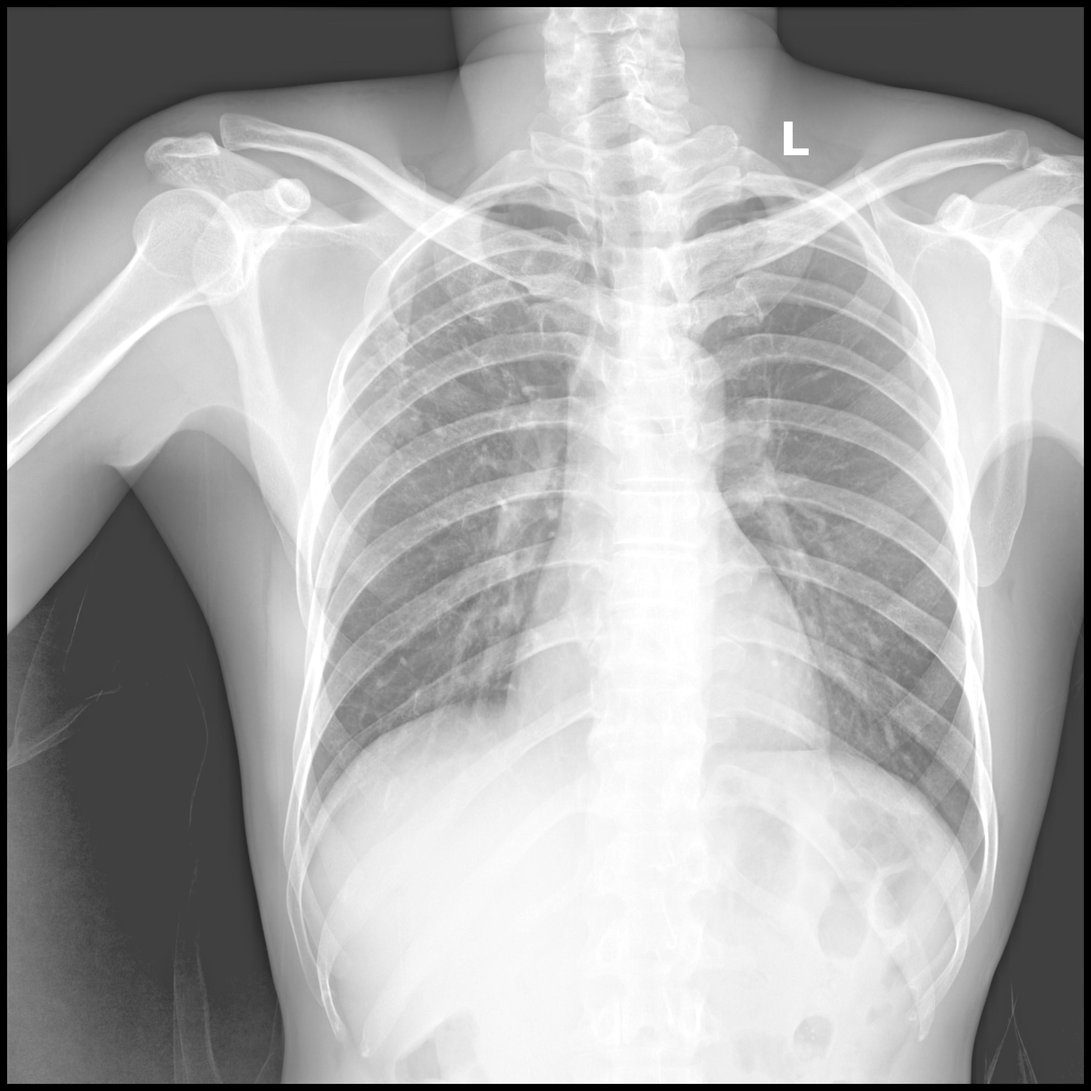Pulmonary fibrosis: (352, 245, 530, 465)
